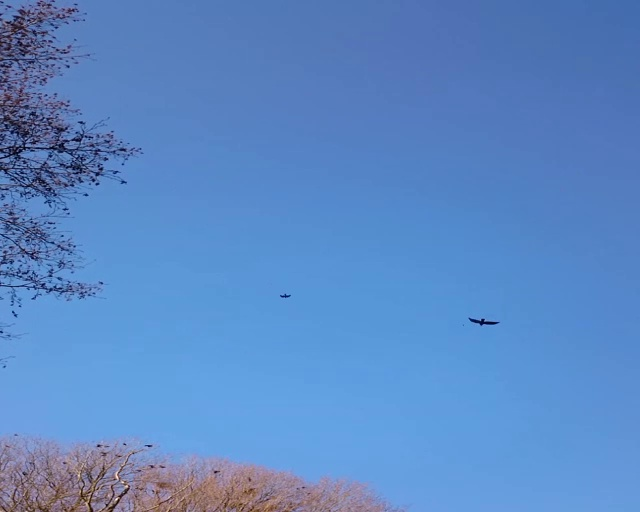BIRD: (468, 316, 500, 326)
